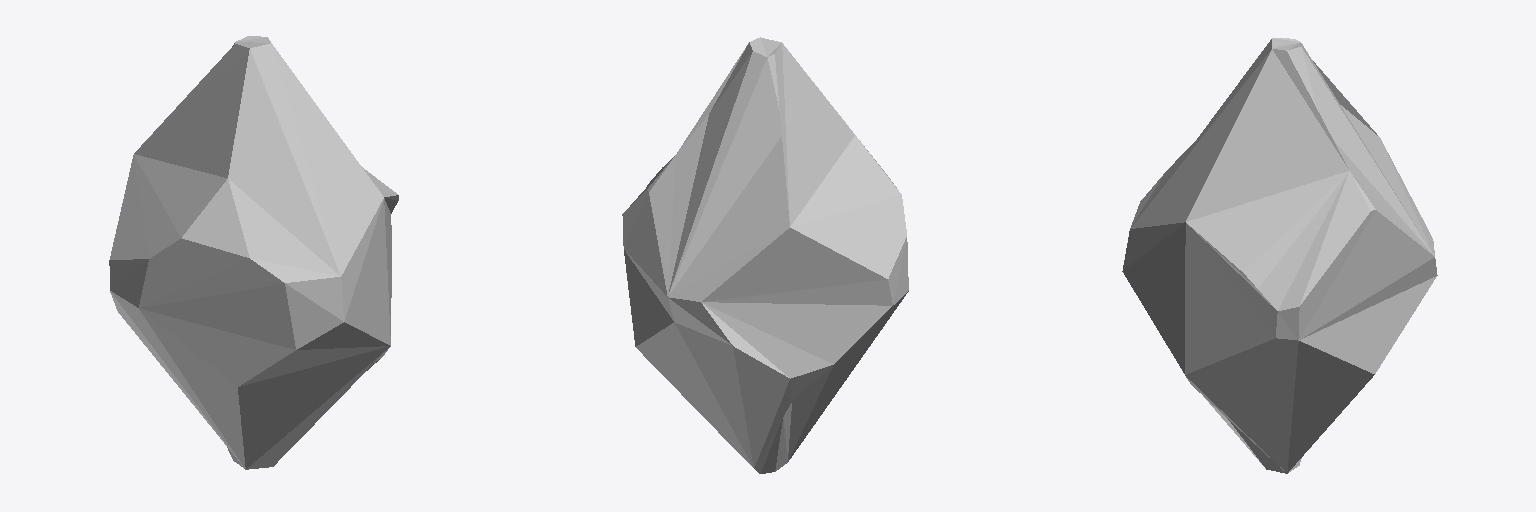
The model's file is orb.obj.
3 renders of one model, left to right at view 1: azimuth 30°, elevation 25°; view 2: azimuth 150°, elevation 25°; view 3: azimuth 270°, elevation 25°, orthographic.
Parts seen in each view (by area): view 1: Cube; view 2: Cube; view 3: Cube.
Boxes of the visible parts, box(x1,y1,x2,y2) form: Cube: box(109, 36, 398, 469); Cube: box(622, 37, 908, 473); Cube: box(1122, 38, 1437, 473).
Size of the model in its own units: 3.55 by 5.32 by 3.56.